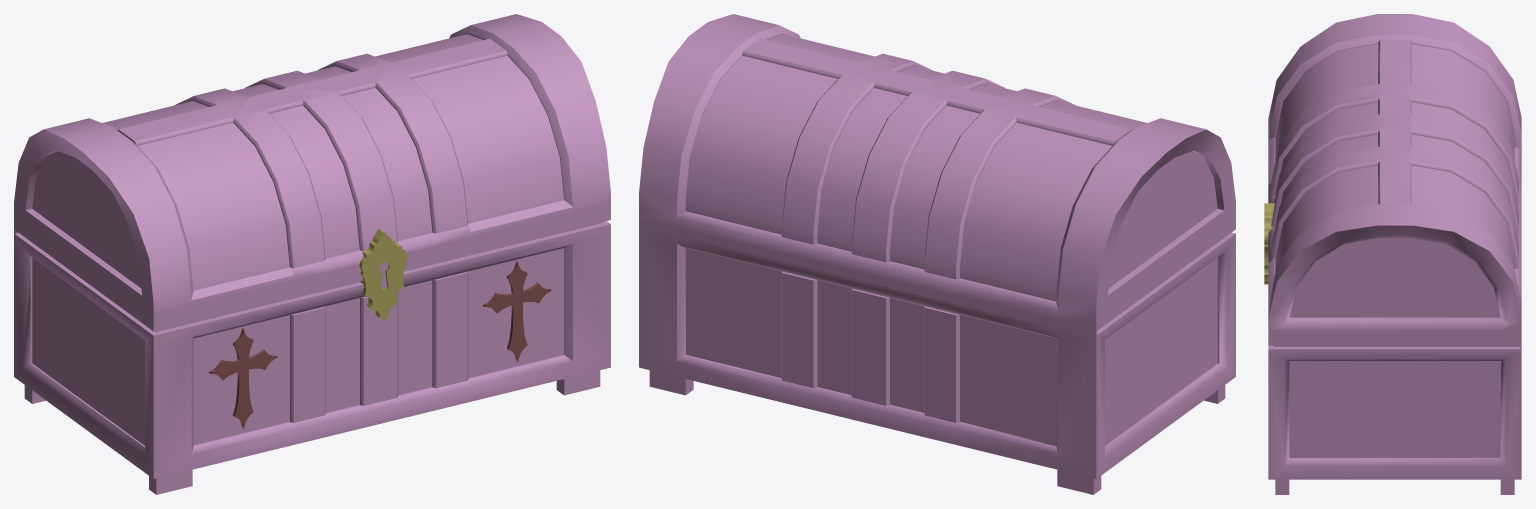
The model's file is Chest_Low.fbx.
3 renders of one model, left to right at view 1: azimuth 30°, elevation 25°; view 2: azimuth 150°, elevation 25°; view 3: azimuth 270°, elevation 25°, orthographic. The views are drawn at different scales.
Parts seen in each view (by area): view 1: Chest_Base_Wood_Room_Low, Chest_Lock_Metal_Room_Low, Chest_Cross_Metal_Room_Low_02, Chest_Cross_Metal_Room_Low_01; view 2: Chest_Base_Wood_Room_Low; view 3: Chest_Base_Wood_Room_Low, Chest_Lock_Metal_Room_Low.
Part boxes in pixels (x1,y1,x2,y2): Chest_Base_Wood_Room_Low: (14,14,610,494); Chest_Lock_Metal_Room_Low: (359,228,406,321); Chest_Cross_Metal_Room_Low_02: (209,328,277,428); Chest_Cross_Metal_Room_Low_01: (483,261,551,361); Chest_Base_Wood_Room_Low: (639,14,1235,494); Chest_Base_Wood_Room_Low: (1266,14,1521,494); Chest_Lock_Metal_Room_Low: (1264,203,1274,284).
Size of the model in its own units: 3.59 by 2.19 by 1.85.
